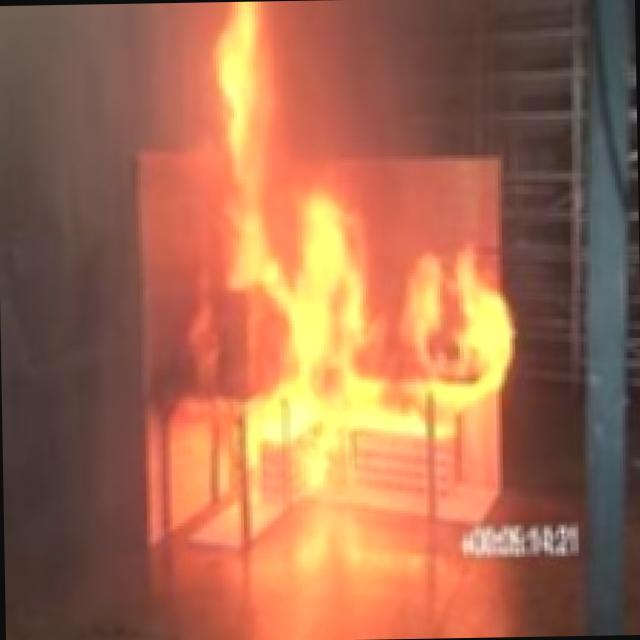fire: (106, 0, 533, 563)
